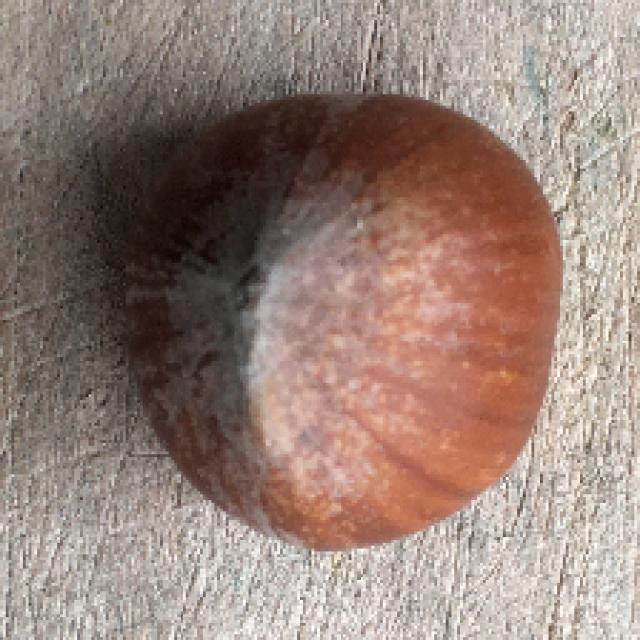qualityHazelnut: (116, 82, 565, 555)
